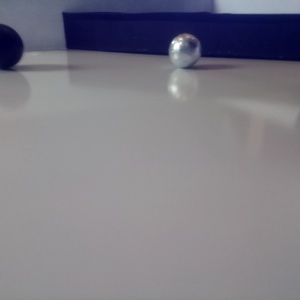zone: (62, 12, 300, 62)
